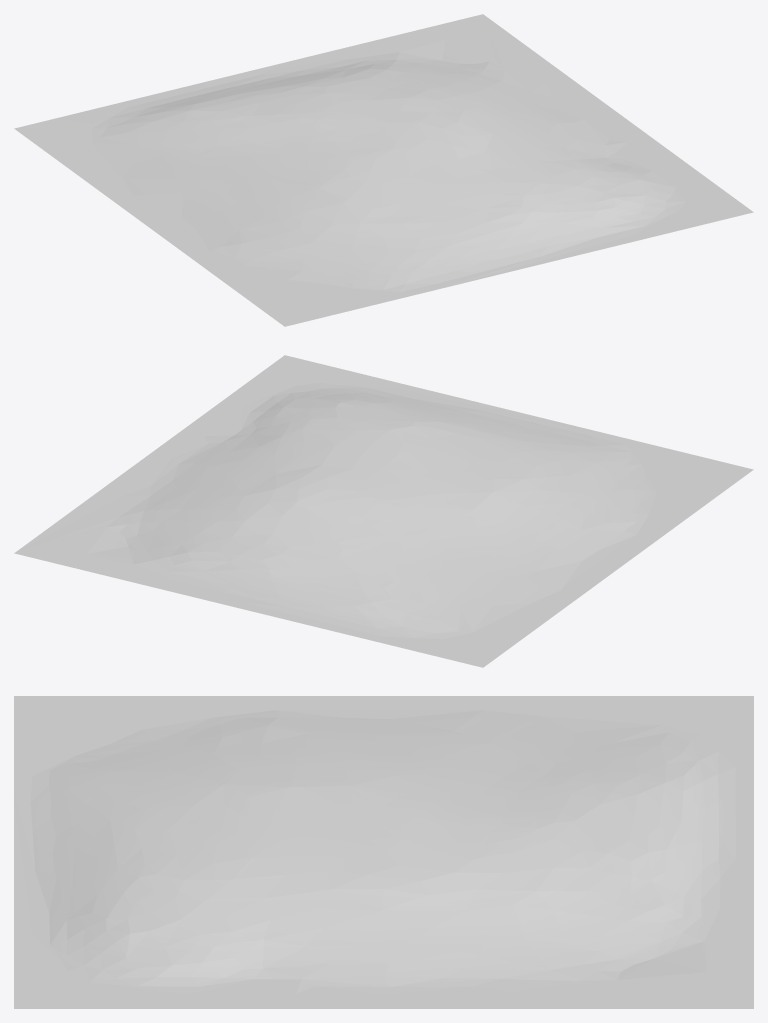
Rendered from Terrain_25.glb.
3 views of the same model, one above another, from view 1: azimuth 30°, elevation 25°; view 2: azimuth 150°, elevation 25°; view 3: azimuth 270°, elevation 25° (orthographic). The views are drawn at different scales.
Visible parts, largest first — view 1: Terrain_25; view 2: Terrain_25; view 3: Terrain_25.
Boxes of the visible parts, x1,y1,x2,y2 form: Terrain_25: (14,14,753,326); Terrain_25: (14,355,753,667); Terrain_25: (14,696,753,1008).
Size of the model in its own units: 128 by 4.06 by 128.
1 material, 1 textured.
